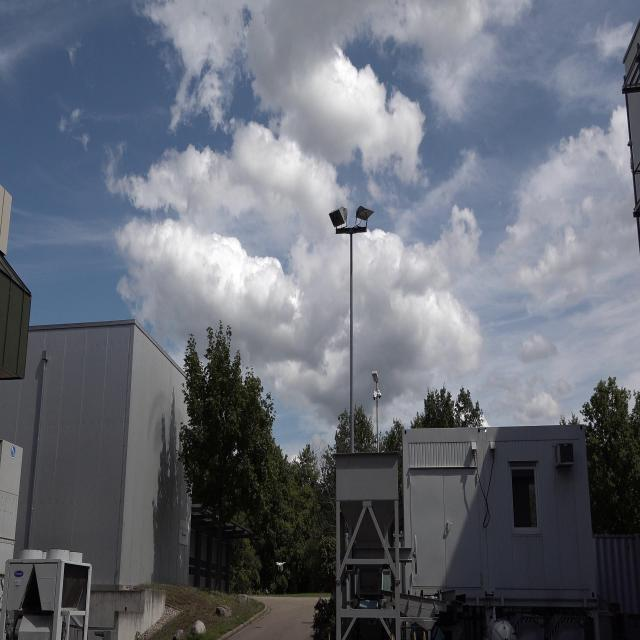drone: (272, 554, 290, 574)
